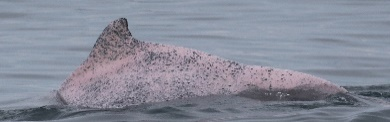fin: (55, 13, 362, 110)
